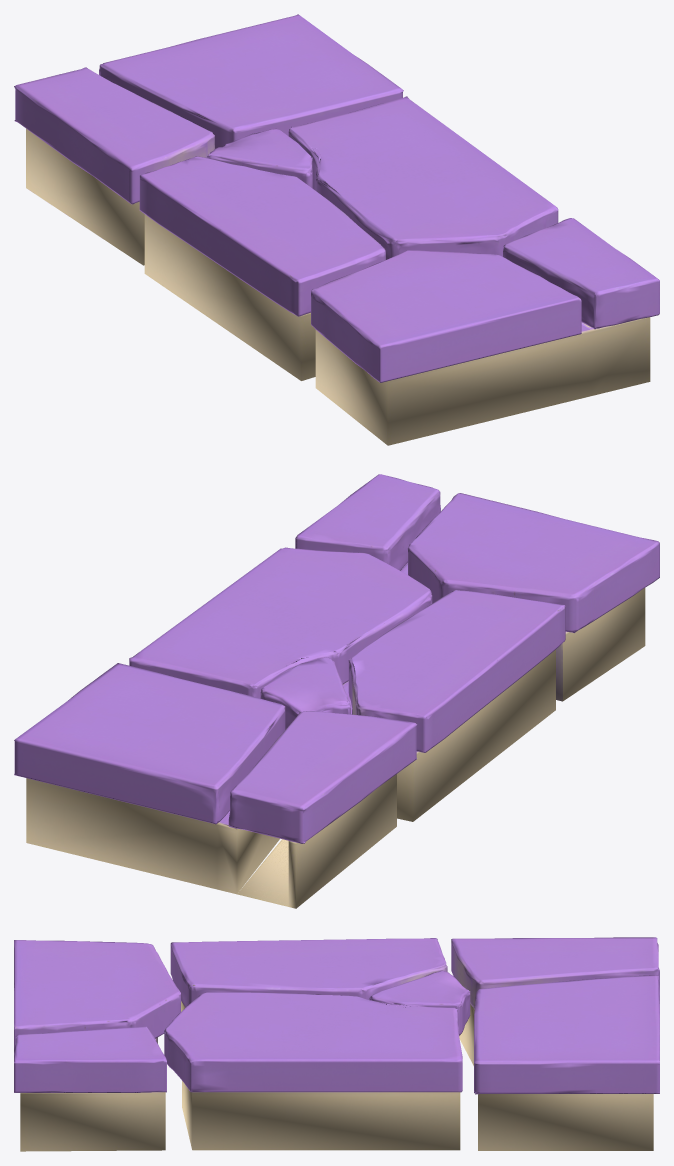
3 renders of one model, top to bottom at view 1: azimuth 30°, elevation 25°; view 2: azimuth 150°, elevation 25°; view 3: azimuth 270°, elevation 25°, orthographic. The views are drawn at different scales.
Visible parts, largest first — view 1: tripo_node_d89b10f5-8f14-48b5-a033-d83e68257f12; view 2: tripo_node_d89b10f5-8f14-48b5-a033-d83e68257f12; view 3: tripo_node_d89b10f5-8f14-48b5-a033-d83e68257f12.
Part boxes in pixels (<box>): tripo_node_d89b10f5-8f14-48b5-a033-d83e68257f12: <box>14,14,659,445</box>; tripo_node_d89b10f5-8f14-48b5-a033-d83e68257f12: <box>14,474,659,908</box>; tripo_node_d89b10f5-8f14-48b5-a033-d83e68257f12: <box>14,937,659,1151</box>.
Size of the model in its own units: 0.459 by 0.1582 by 0.998.
Materials: 1 (1 with a texture image).
